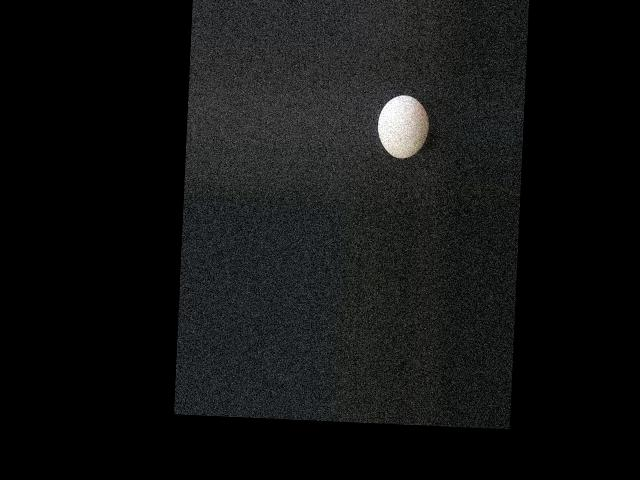egg: (376, 95, 429, 160)
